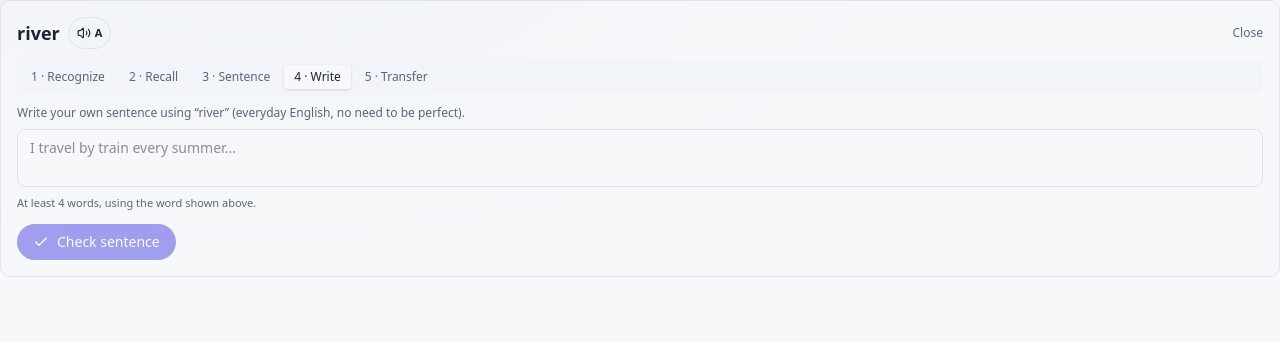
Test case: WordDrill paso Write (V3.39) › un acierto acredita la modalidad escrita y avisa al padre
The width and height of the screenshot is (1280, 342).
Type "I swim in the river every summer." into the text box named "Your sentence" at [640, 158], box 17,129 -> 1263,187
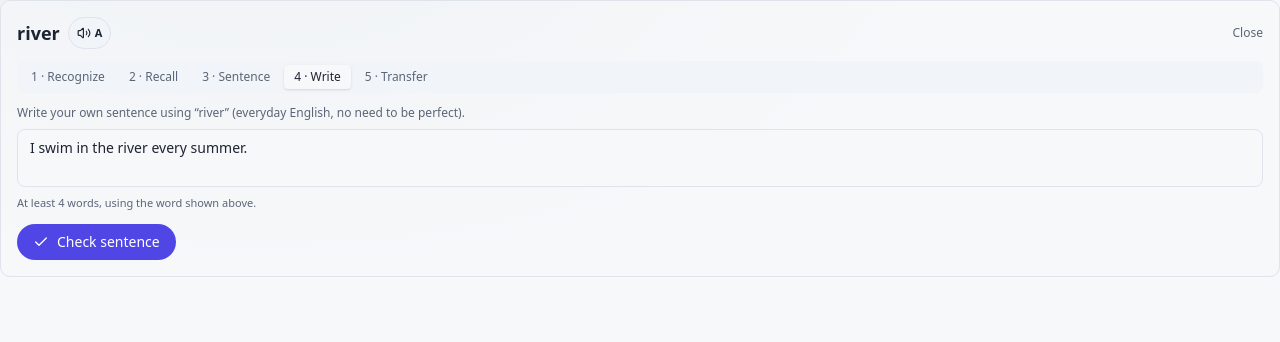
Click the button "Check sentence" at [96, 242], box 17,224 -> 176,260
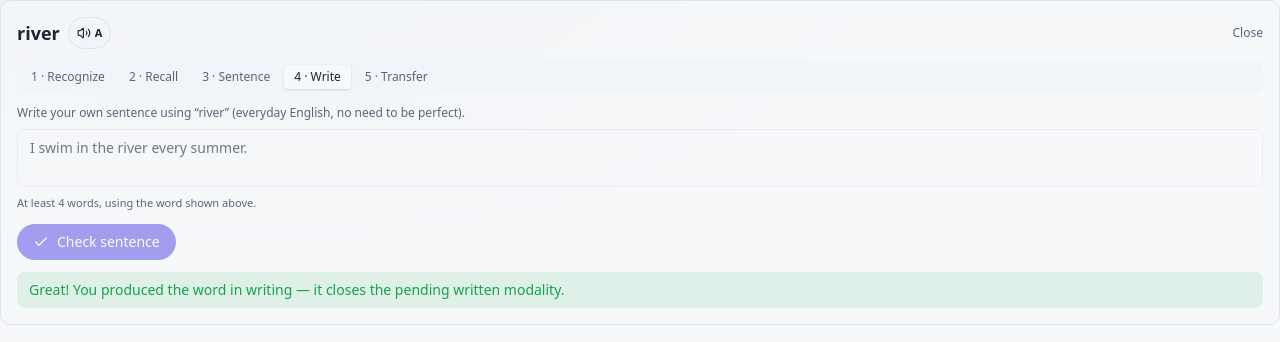
Expected: the text "You produced the word in writing" is shown, 29,280 -> 564,298
